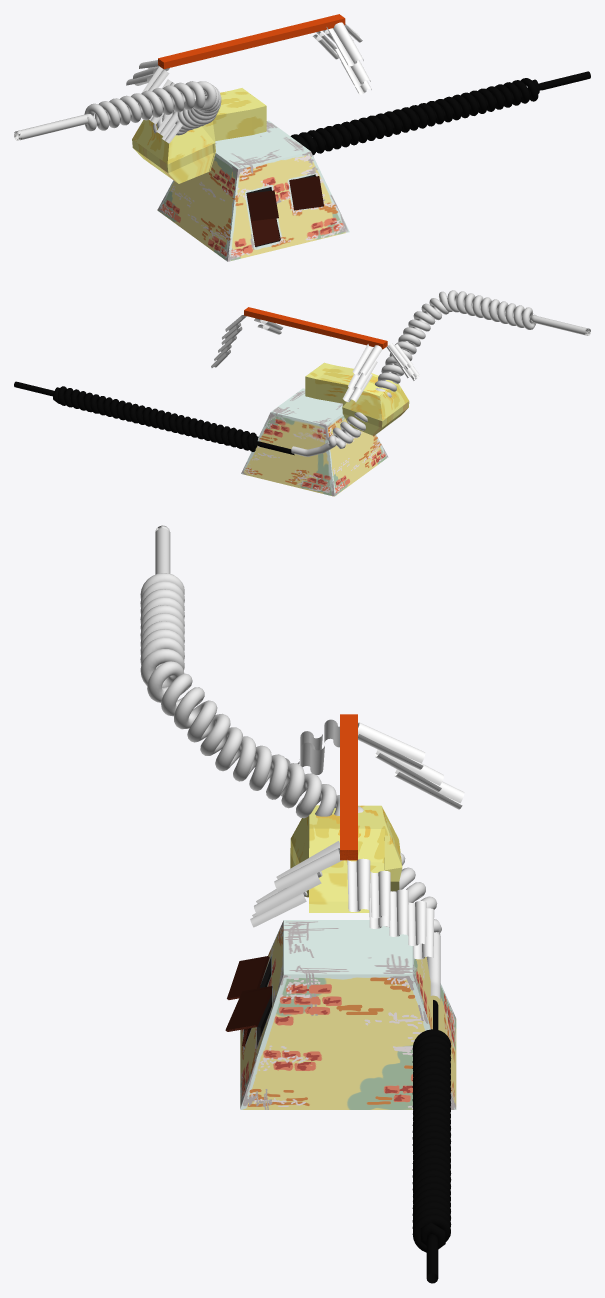
The model's file is releituraanimada.glb.
The picture shows the model from 3 angles, top to bottom: view 1: azimuth 30°, elevation 25°; view 2: azimuth 150°, elevation 25°; view 3: azimuth 270°, elevation 25°; orthographic projection. The views are drawn at different scales.
Visible parts, largest first — view 1: Casa, Linha, Telefone, Fio do telefone, Cubo.003, Janela, Porta de cima, Roof.005, Porta de baixo, Roof.004; view 2: Casa, Fio do telefone, Linha, Telefone, Cubo.003, Roof.003, Roof.002; view 3: Casa, Fio do telefone, Linha, Telefone, Cubo.003, Janela, Roof.003, Roof.005, Roof.007, Porta de cima, Roof.004.
Boxes of the visible parts, bbox=[...] form: Casa: bbox=[157, 120, 349, 261]; Linha: bbox=[290, 71, 590, 155]; Telefone: bbox=[132, 88, 266, 183]; Fio do telefone: bbox=[14, 81, 221, 140]; Cubo.003: bbox=[158, 14, 345, 69]; Janela: bbox=[289, 176, 323, 210]; Porta de cima: bbox=[247, 190, 278, 220]; Roof.005: bbox=[326, 22, 363, 66]; Porta de baixo: bbox=[250, 218, 280, 246]; Roof.004: bbox=[333, 47, 370, 87]; Casa: bbox=[241, 388, 388, 496]; Fio do telefone: bbox=[291, 290, 590, 456]; Linha: bbox=[14, 381, 294, 455]; Telefone: bbox=[305, 362, 409, 435]; Cubo.003: bbox=[244, 307, 387, 349]; Roof.003: bbox=[352, 344, 382, 375]; Roof.002: bbox=[348, 360, 377, 389]; Casa: bbox=[240, 920, 456, 1109]; Fio do telefone: bbox=[140, 525, 441, 1000]; Linha: bbox=[412, 1000, 451, 1283]; Telefone: bbox=[290, 805, 402, 912]; Cubo.003: bbox=[340, 714, 357, 860]; Janela: bbox=[225, 986, 272, 1031]; Roof.003: bbox=[358, 722, 425, 769]; Roof.005: bbox=[274, 841, 342, 891]; Roof.007: bbox=[347, 858, 370, 911]; Porta de cima: bbox=[227, 956, 269, 999]; Roof.004: bbox=[254, 871, 322, 915].
Size of what is drawn, in the model's own units: 26.3 by 8.14 by 7.29.
Materials: 7 (3 with a texture image).
